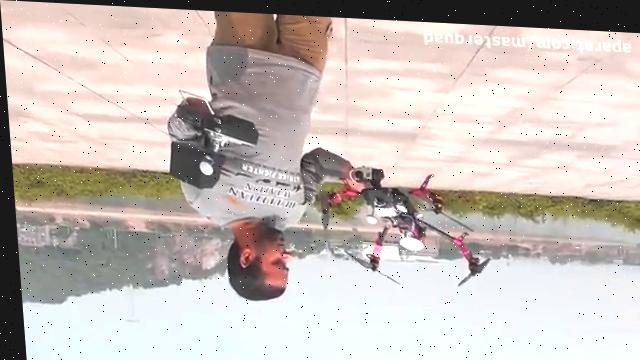drone: (311, 158, 495, 290)
